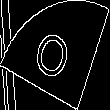O_SW: (32, 23, 78, 87)
